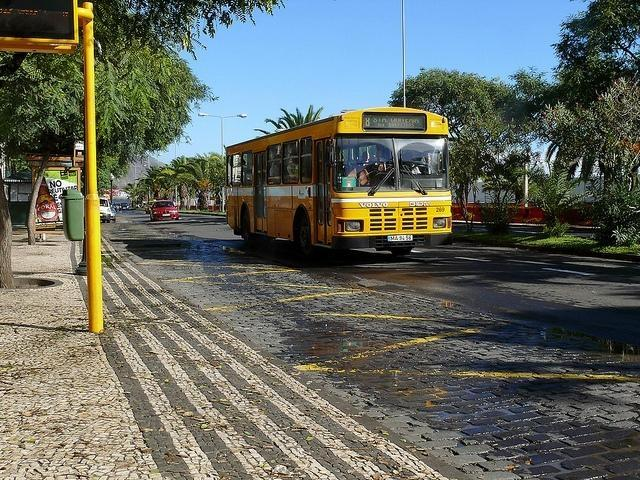bus: (223, 108, 452, 266)
car: (151, 200, 178, 220), (100, 196, 112, 224)
